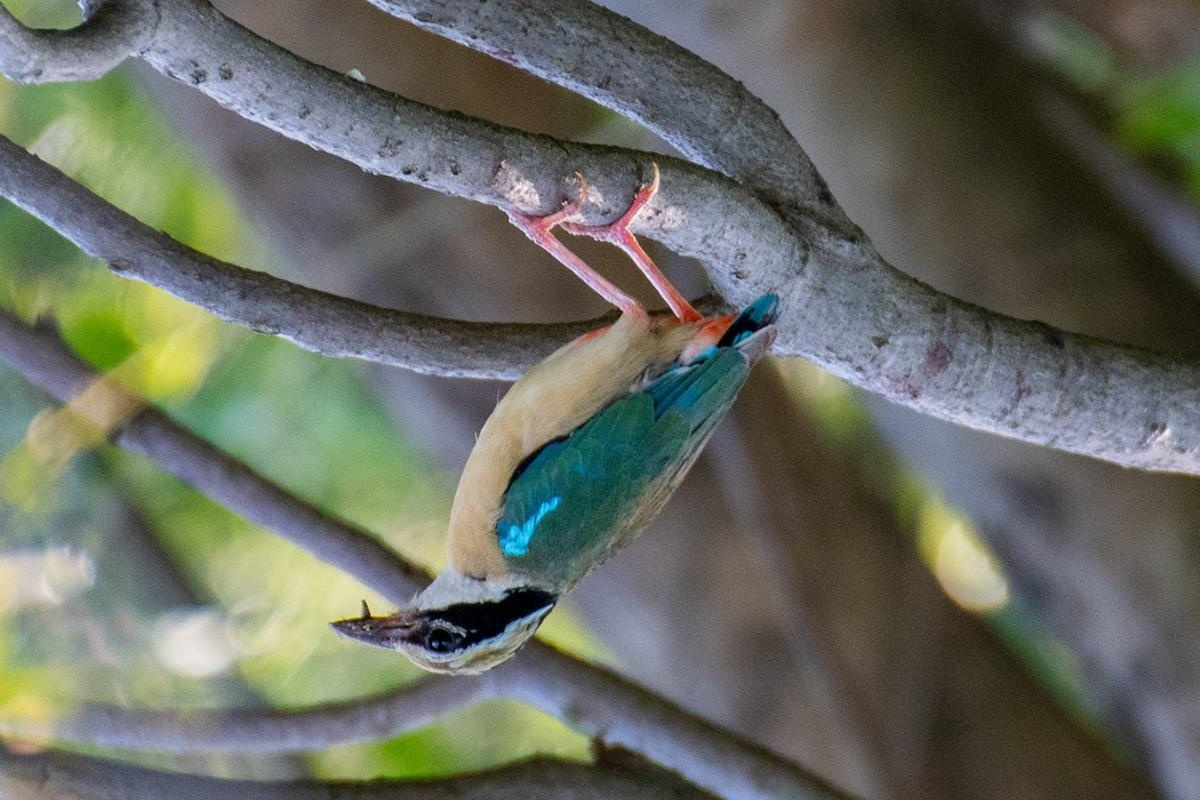pitta: (310, 196, 814, 697)
